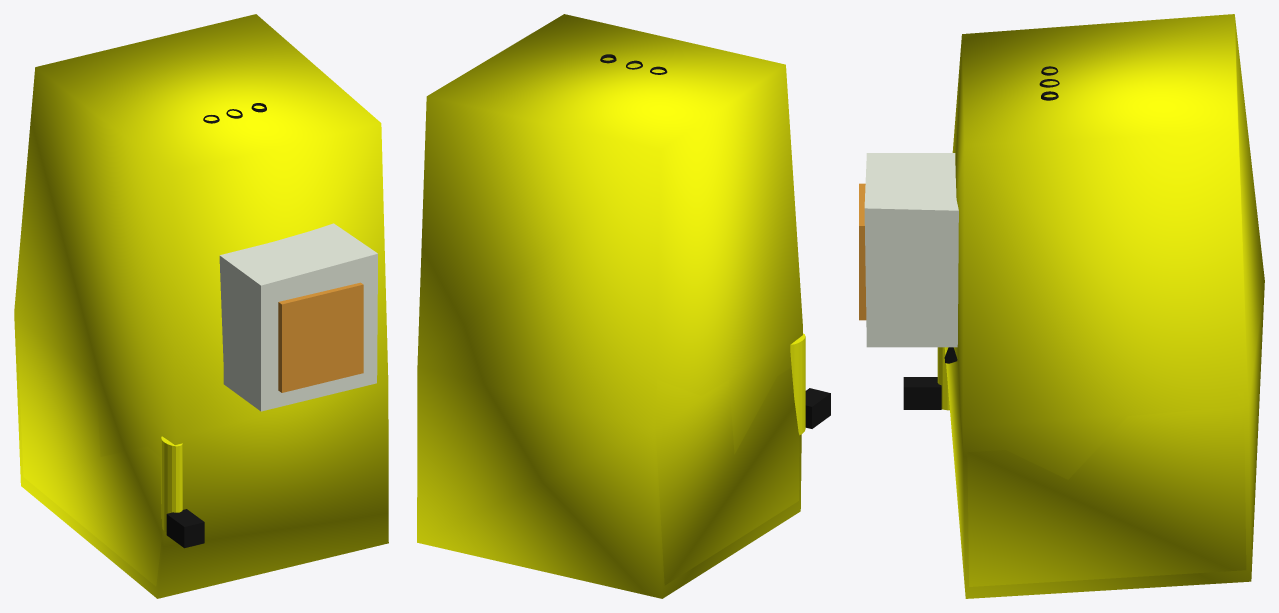
The model's file is asset.glb.
The picture shows the model from 3 angles, left to right: view 1: azimuth 30°, elevation 25°; view 2: azimuth 150°, elevation 25°; view 3: azimuth 270°, elevation 25°; orthographic projection. The views are drawn at different scales.
Visible parts, largest first — view 1: Cube, Cube.005, Cube.001, Cube.002, Cylinder.001, Cube.004; view 2: Cube, Cube.005, Cylinder.001, Cube.004; view 3: Cube, Cube.005, Cube.001, Cube.004, Cube.002, Cylinder.001.
Part boxes in pixels (box(x1,y1,x2,y2)): Cube: box(14, 14, 388, 598); Cube.005: box(16, 273, 162, 586); Cube.001: box(219, 223, 377, 411); Cube.002: box(278, 282, 363, 392); Cylinder.001: box(161, 436, 182, 532); Cube.004: box(166, 509, 204, 548); Cube: box(417, 14, 802, 598); Cube.005: box(655, 367, 799, 585); Cylinder.001: box(790, 333, 805, 435); Cube.004: box(805, 388, 830, 428); Cube: box(944, 14, 1264, 598); Cube.005: box(967, 392, 1246, 586); Cube.001: box(864, 153, 958, 347); Cube.004: box(903, 377, 941, 409); Cube.002: box(859, 183, 866, 320); Cylinder.001: box(937, 347, 949, 410).
Bounding box in the file's own units: 1.51 × 2.76 × 2.12.
